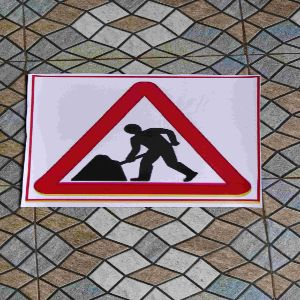men at work: (29, 74, 256, 197)
